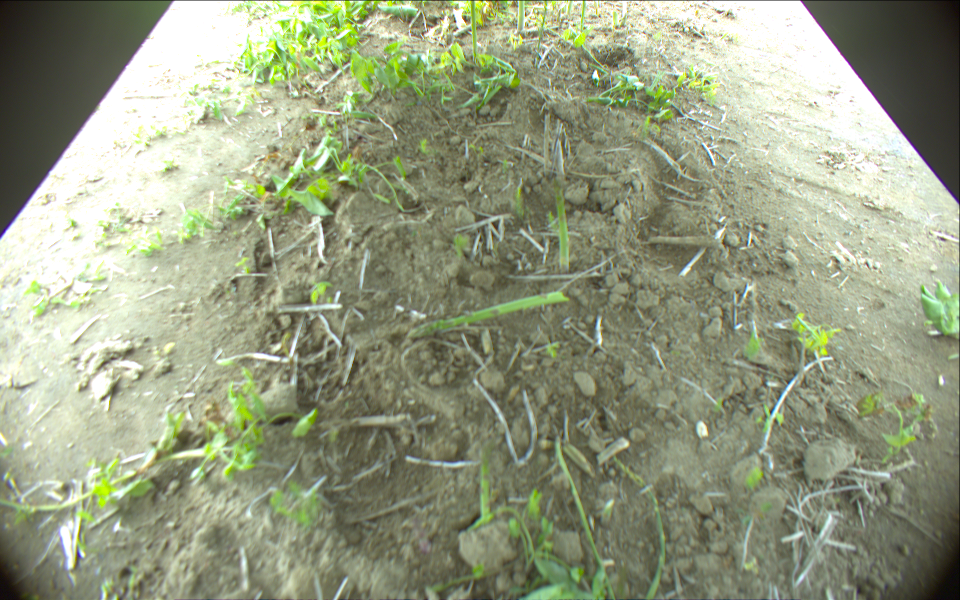aspa: (555, 430, 617, 600), (610, 455, 667, 600), (406, 289, 570, 337), (554, 178, 570, 273), (479, 448, 491, 527), (470, 1, 479, 62), (579, 1, 587, 38), (517, 1, 526, 31), (609, 11, 620, 30), (593, 1, 600, 16), (566, 1, 572, 16)
